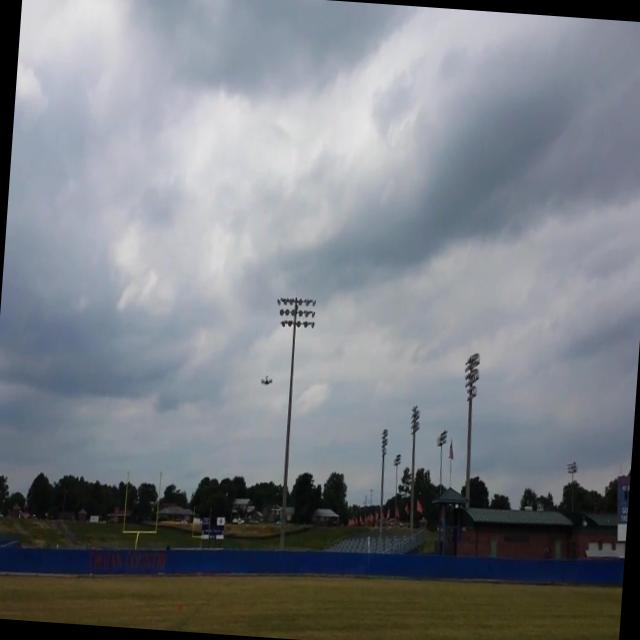drone: (258, 372, 274, 389)
